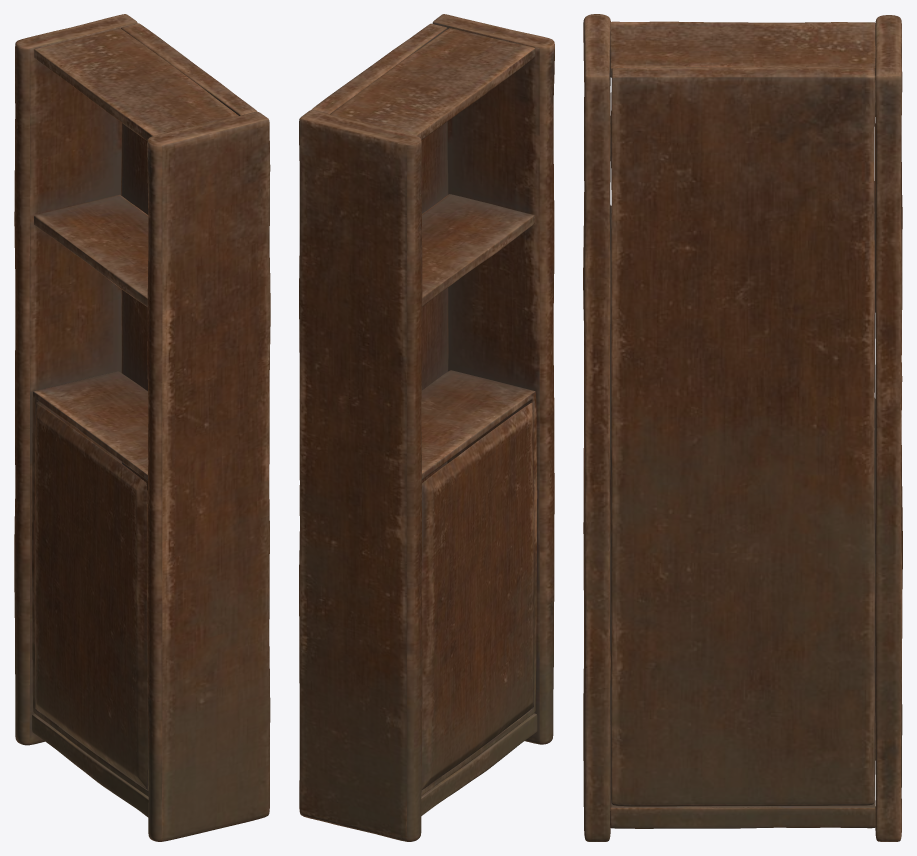
3 renders of one model, left to right at view 1: azimuth 30°, elevation 25°; view 2: azimuth 150°, elevation 25°; view 3: azimuth 270°, elevation 25°, orthographic. The views are drawn at different scales.
Parts seen in each view (by area): view 1: Object_2; view 2: Object_2; view 3: Object_2.
Boxes of the visible parts, x1,y1,x2,y2 form: Object_2: (14, 14, 270, 841); Object_2: (299, 14, 554, 841); Object_2: (583, 14, 902, 841).
Bounding box in the file's own units: 2.44 × 13.93 × 5.25.
Materials: 1 (1 with a texture image).
